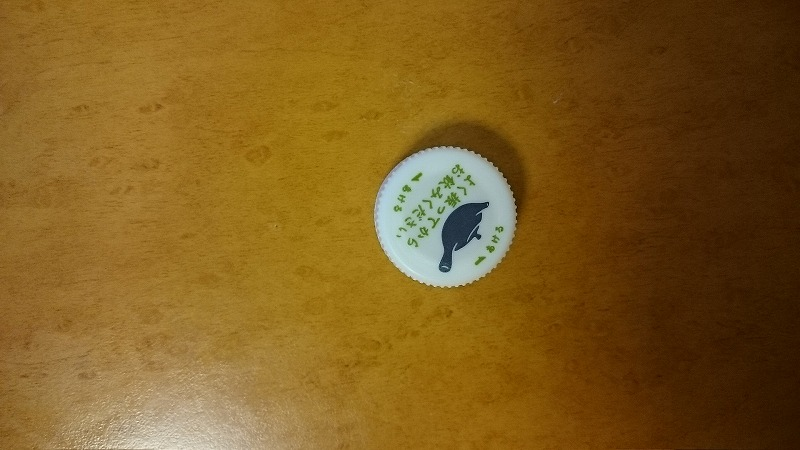A: (367, 139, 527, 294)
